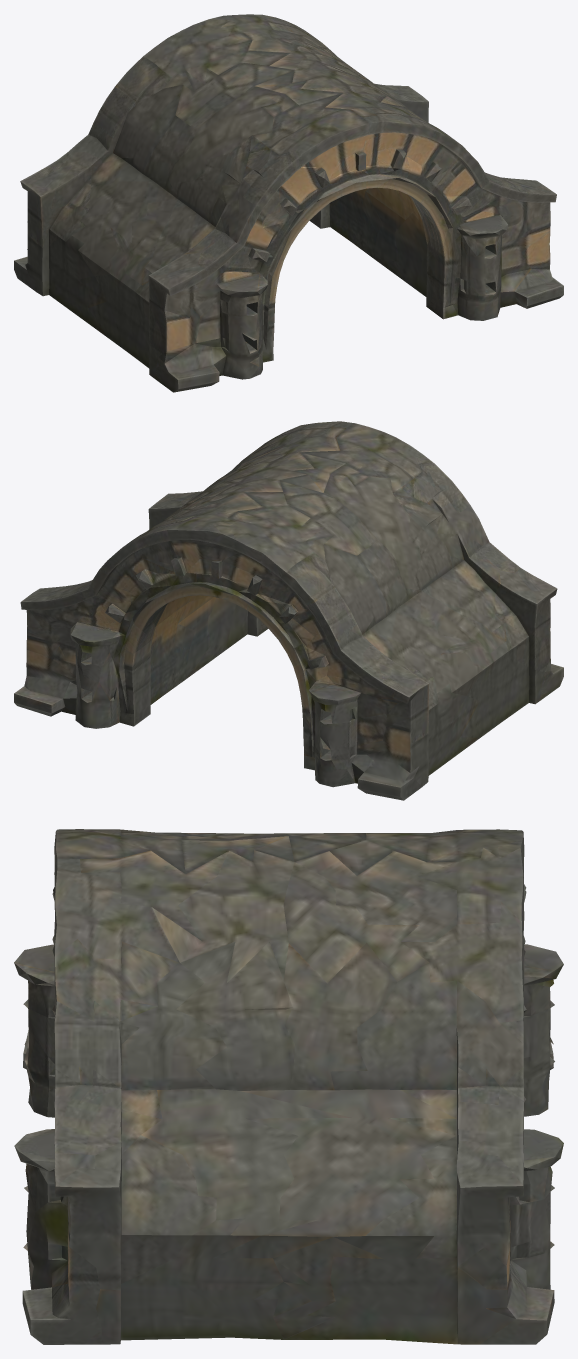
Rendered from stone_footbridge.glb.
The picture shows the model from 3 angles, top to bottom: view 1: azimuth 30°, elevation 25°; view 2: azimuth 150°, elevation 25°; view 3: azimuth 270°, elevation 25°; orthographic projection. The views are drawn at different scales.
Size of the model in its own units: 1.9 by 1.02 by 1.47.
Materials: 1 (1 with a texture image).
